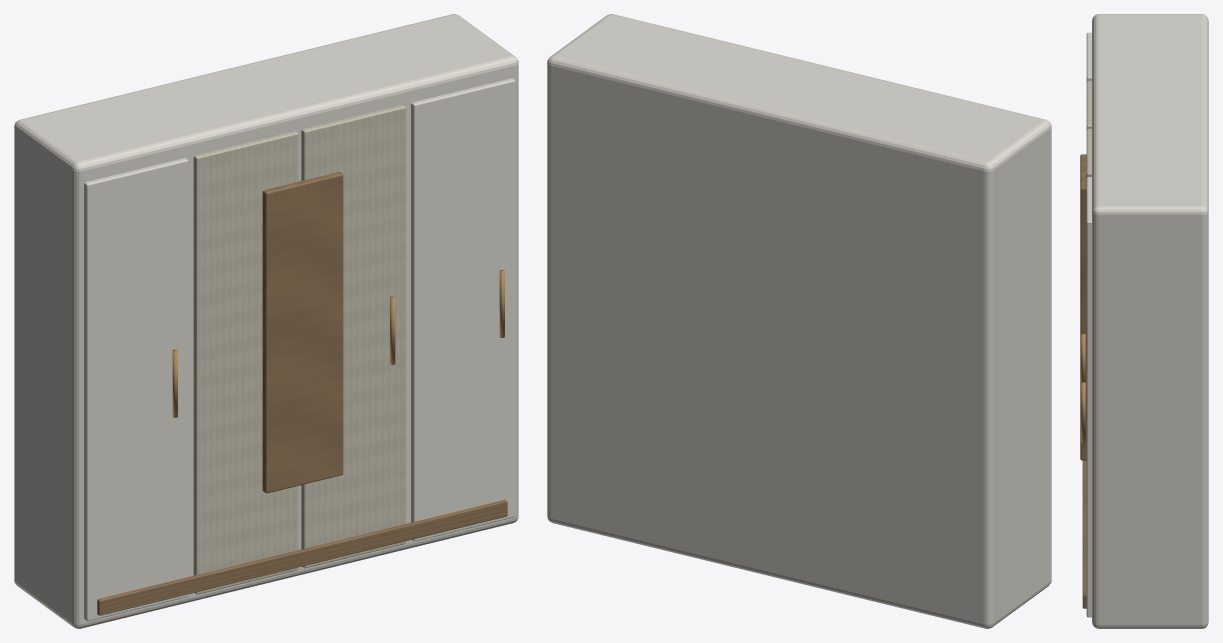
File: wardrobe.glb
The picture shows the model from 3 angles, left to right: view 1: azimuth 30°, elevation 25°; view 2: azimuth 150°, elevation 25°; view 3: azimuth 270°, elevation 25°; orthographic projection. The views are drawn at different scales.
Parts seen in each view (by area): view 1: CANONICAL carcass, CANONICAL door 1, CANONICAL door 4, CANONICAL door 2, CANONICAL door 3, ACCENT oak niche, ACCENT oak reveal; view 2: CANONICAL carcass; view 3: CANONICAL carcass, CANONICAL door 4, ACCENT oak niche, ACCENT oak reveal, ACCENT handle.003, CANONICAL door 1, CANONICAL door 3, CANONICAL door 2, ACCENT handle.002.
Boxes of the visible parts, <box> form: CANONICAL carcass: <box>14,14,518,628</box>; CANONICAL door 1: <box>84,158,188,621</box>; CANONICAL door 4: <box>411,78,515,541</box>; CANONICAL door 2: <box>193,131,298,594</box>; CANONICAL door 3: <box>301,105,405,568</box>; ACCENT oak niche: <box>262,172,343,493</box>; ACCENT oak reveal: <box>97,500,507,615</box>; CANONICAL carcass: <box>547,14,1051,628</box>; CANONICAL carcass: <box>1092,14,1208,628</box>; CANONICAL door 4: <box>1086,177,1091,617</box>; ACCENT oak niche: <box>1080,154,1086,460</box>; ACCENT oak reveal: <box>1082,460,1086,608</box>; ACCENT handle.003: <box>1081,382,1085,443</box>; CANONICAL door 1: <box>1086,32,1091,81</box>; CANONICAL door 3: <box>1086,128,1091,177</box>; CANONICAL door 2: <box>1086,81,1091,129</box>; ACCENT handle.002: <box>1081,333,1085,382</box>.
Bounding box in the file's own units: 2.4 × 2.4 × 0.66.
Materials: 4 (2 with a texture image).
